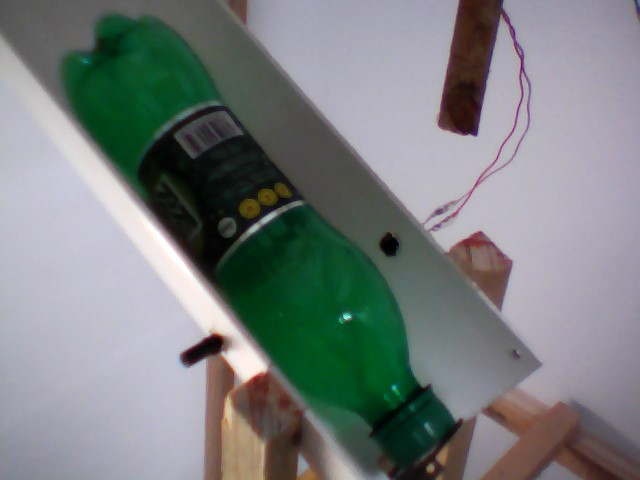plastico: (55, 7, 463, 475)
